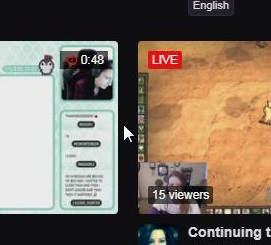cursor: (116, 120, 139, 147)
